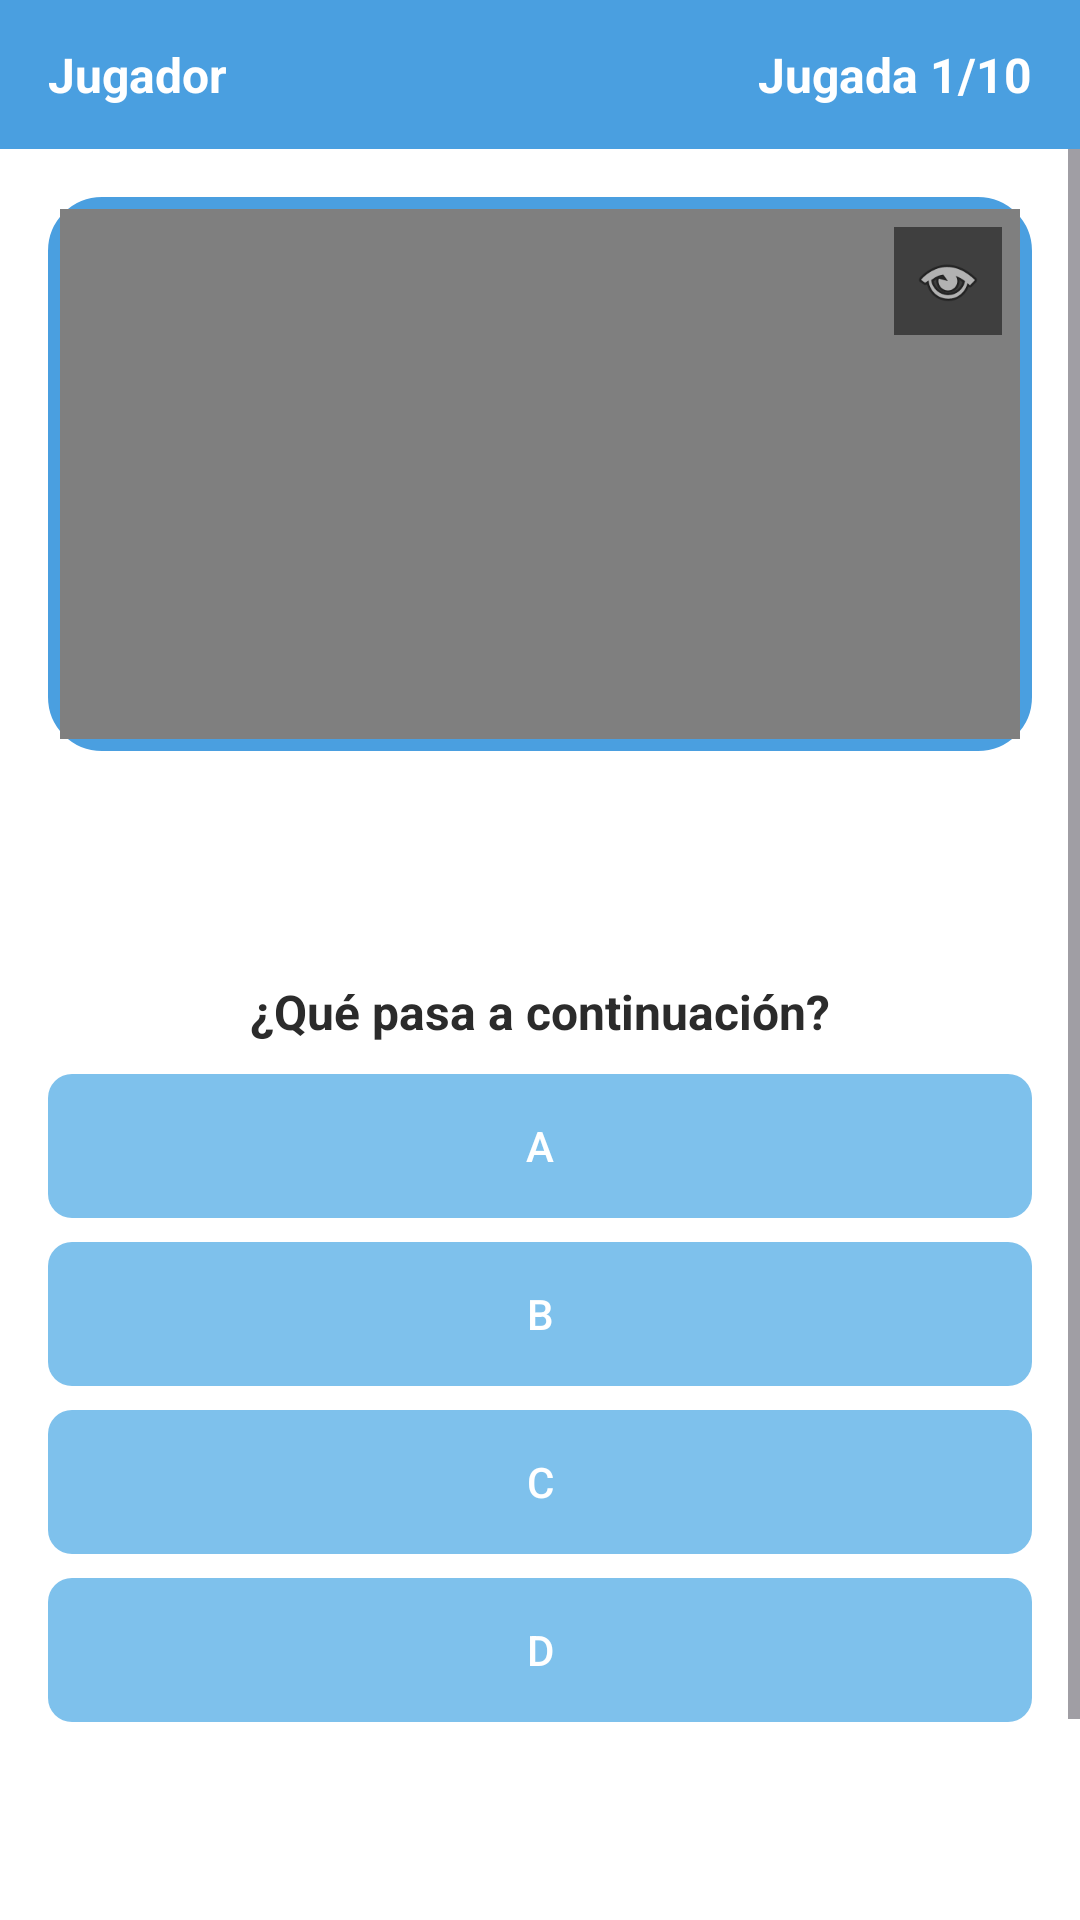

Named icons in this screenshot (1080w x 1920h) and their bounding boxes, (x1, y1, x2, y2):
Ver en pantalla completa: (894, 227, 1002, 335)
